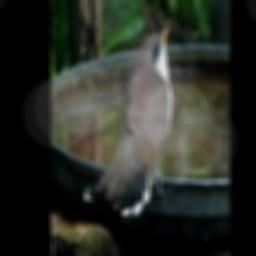Cuckoo: (84, 17, 176, 216)
